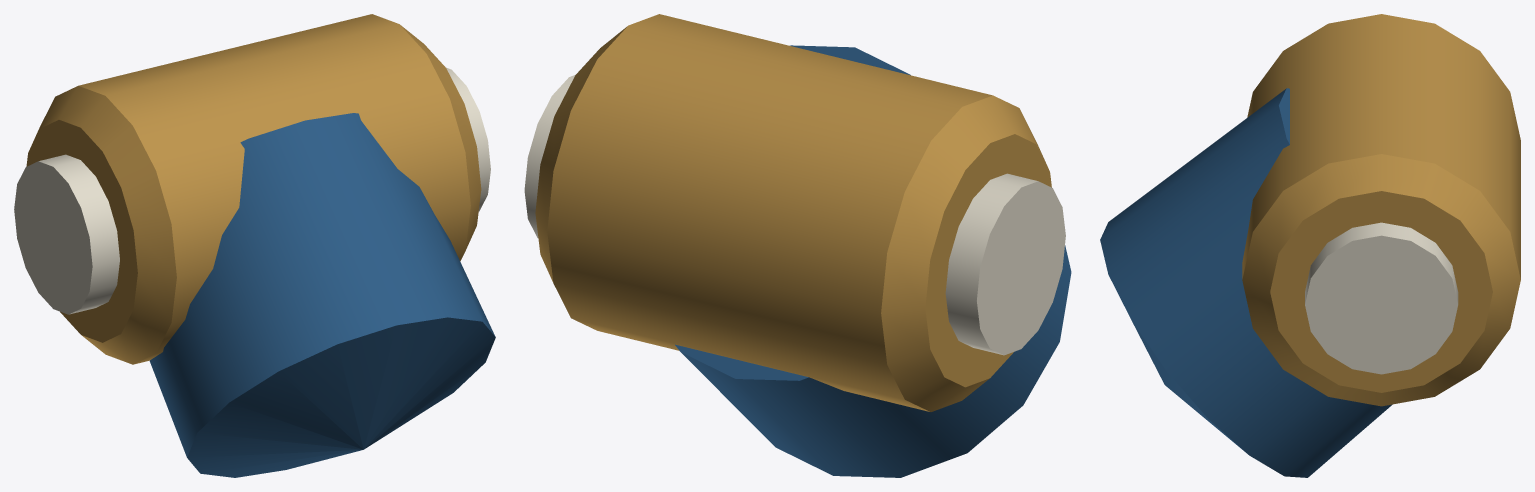
File: rm2_arm_l_wrist.obj
3 views of the same model, side by side, from view 1: azimuth 30°, elevation 25°; view 2: azimuth 150°, elevation 25°; view 3: azimuth 270°, elevation 25° (orthographic). The views are drawn at different scales.
Parts seen in each view (by area): view 1: rm2_arm_l_wrist; view 2: rm2_arm_l_wrist; view 3: rm2_arm_l_wrist.
Boxes of the visible parts, <box> form: rm2_arm_l_wrist: <box>14,14,495,477</box>; rm2_arm_l_wrist: <box>524,14,1071,477</box>; rm2_arm_l_wrist: <box>1100,14,1520,477</box>.
Size of the model in its own units: 0.116 by 0.1072 by 0.1087.
